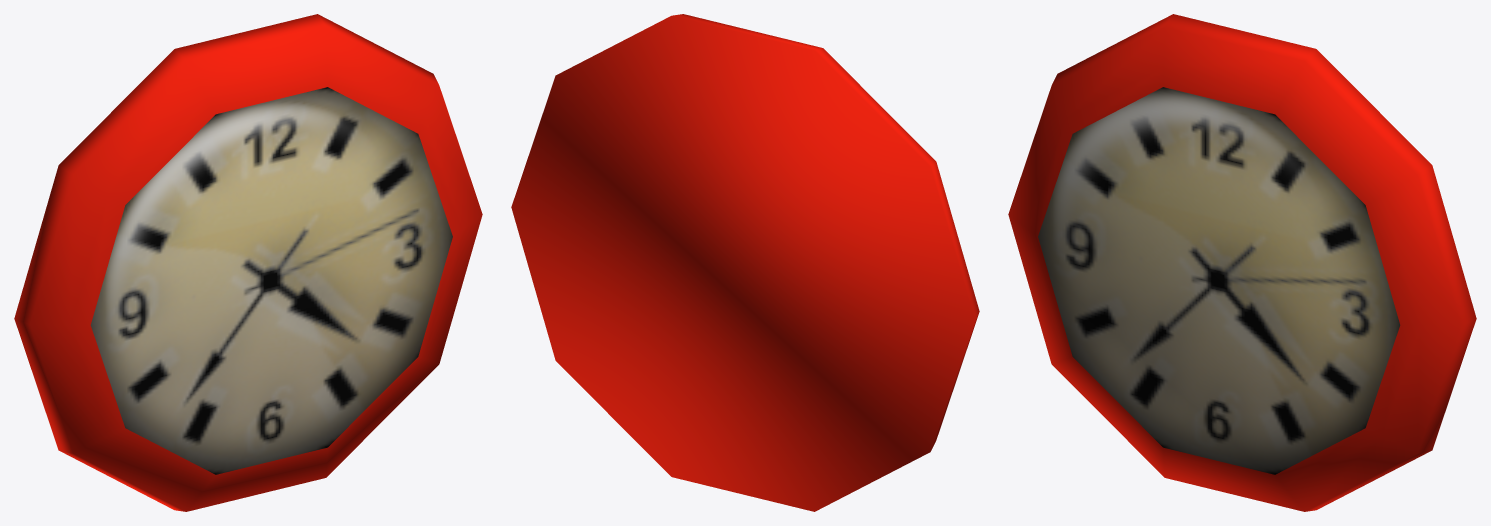
The model's file is Wall_Clock_D.FBX.
3 renders of one model, left to right at view 1: azimuth 30°, elevation 25°; view 2: azimuth 150°, elevation 25°; view 3: azimuth 330°, elevation 25°, orthographic.
Visible parts, largest first — view 1: Wall_Clock; view 2: Wall_Clock; view 3: Wall_Clock.
Boxes of the visible parts, left/top/right/bottom form: Wall_Clock: left=14, top=14, right=482, bottom=511; Wall_Clock: left=511, top=14, right=979, bottom=511; Wall_Clock: left=1008, top=14, right=1476, bottom=511.
Size of the model in its own units: 130 by 124 by 12.52.
